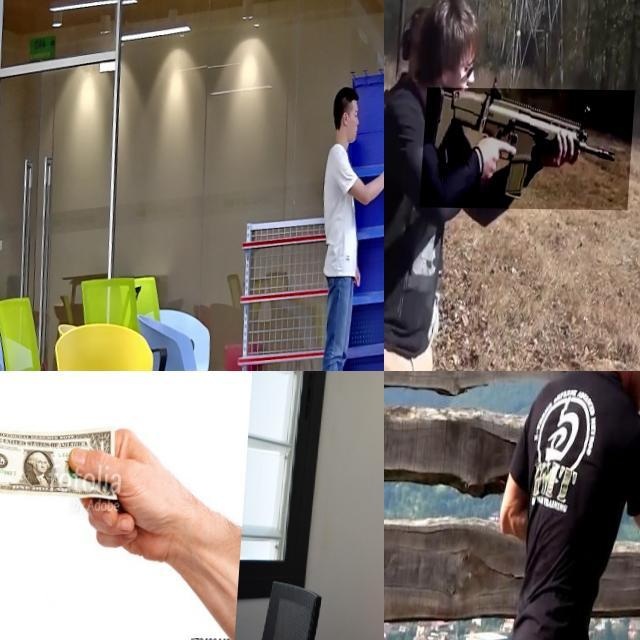gun-knife-thesis - v11 Yolov5 augmented: (423, 86, 638, 210)
